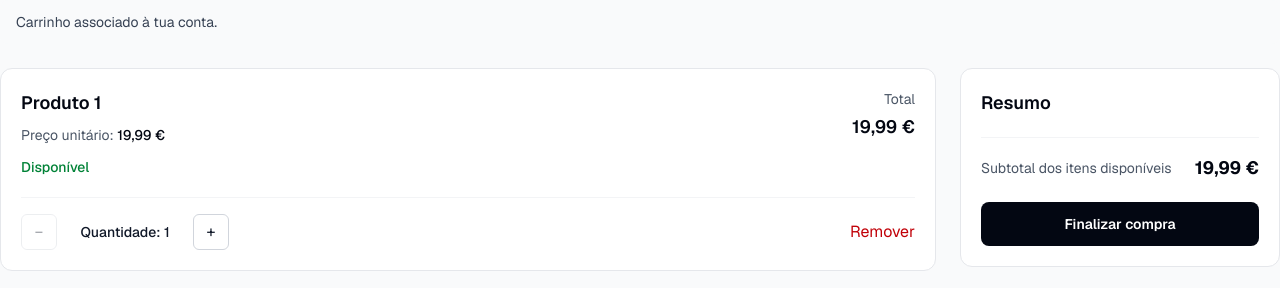
Scenario: CartClient › aumenta quantidade no carrinho autenticado
Click the button named "Aumentar quantidade de Produto 1": [211, 232] box [193,214,229,250]
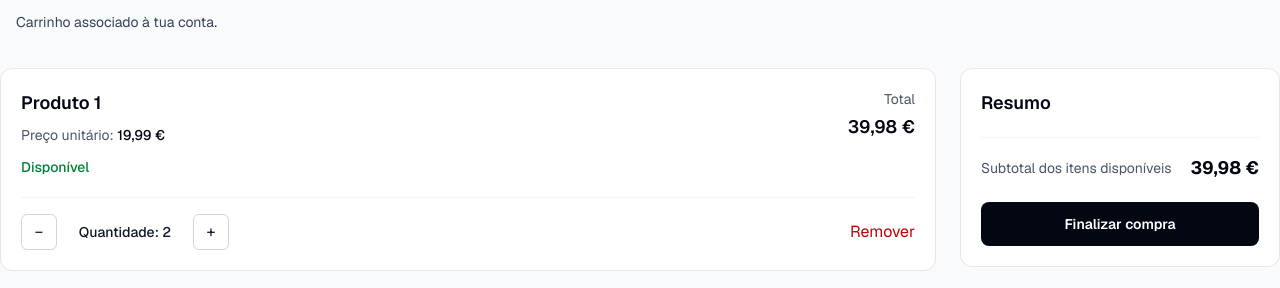
Expected: the text "Quantidade: 2" is shown, [79,223,171,241]
